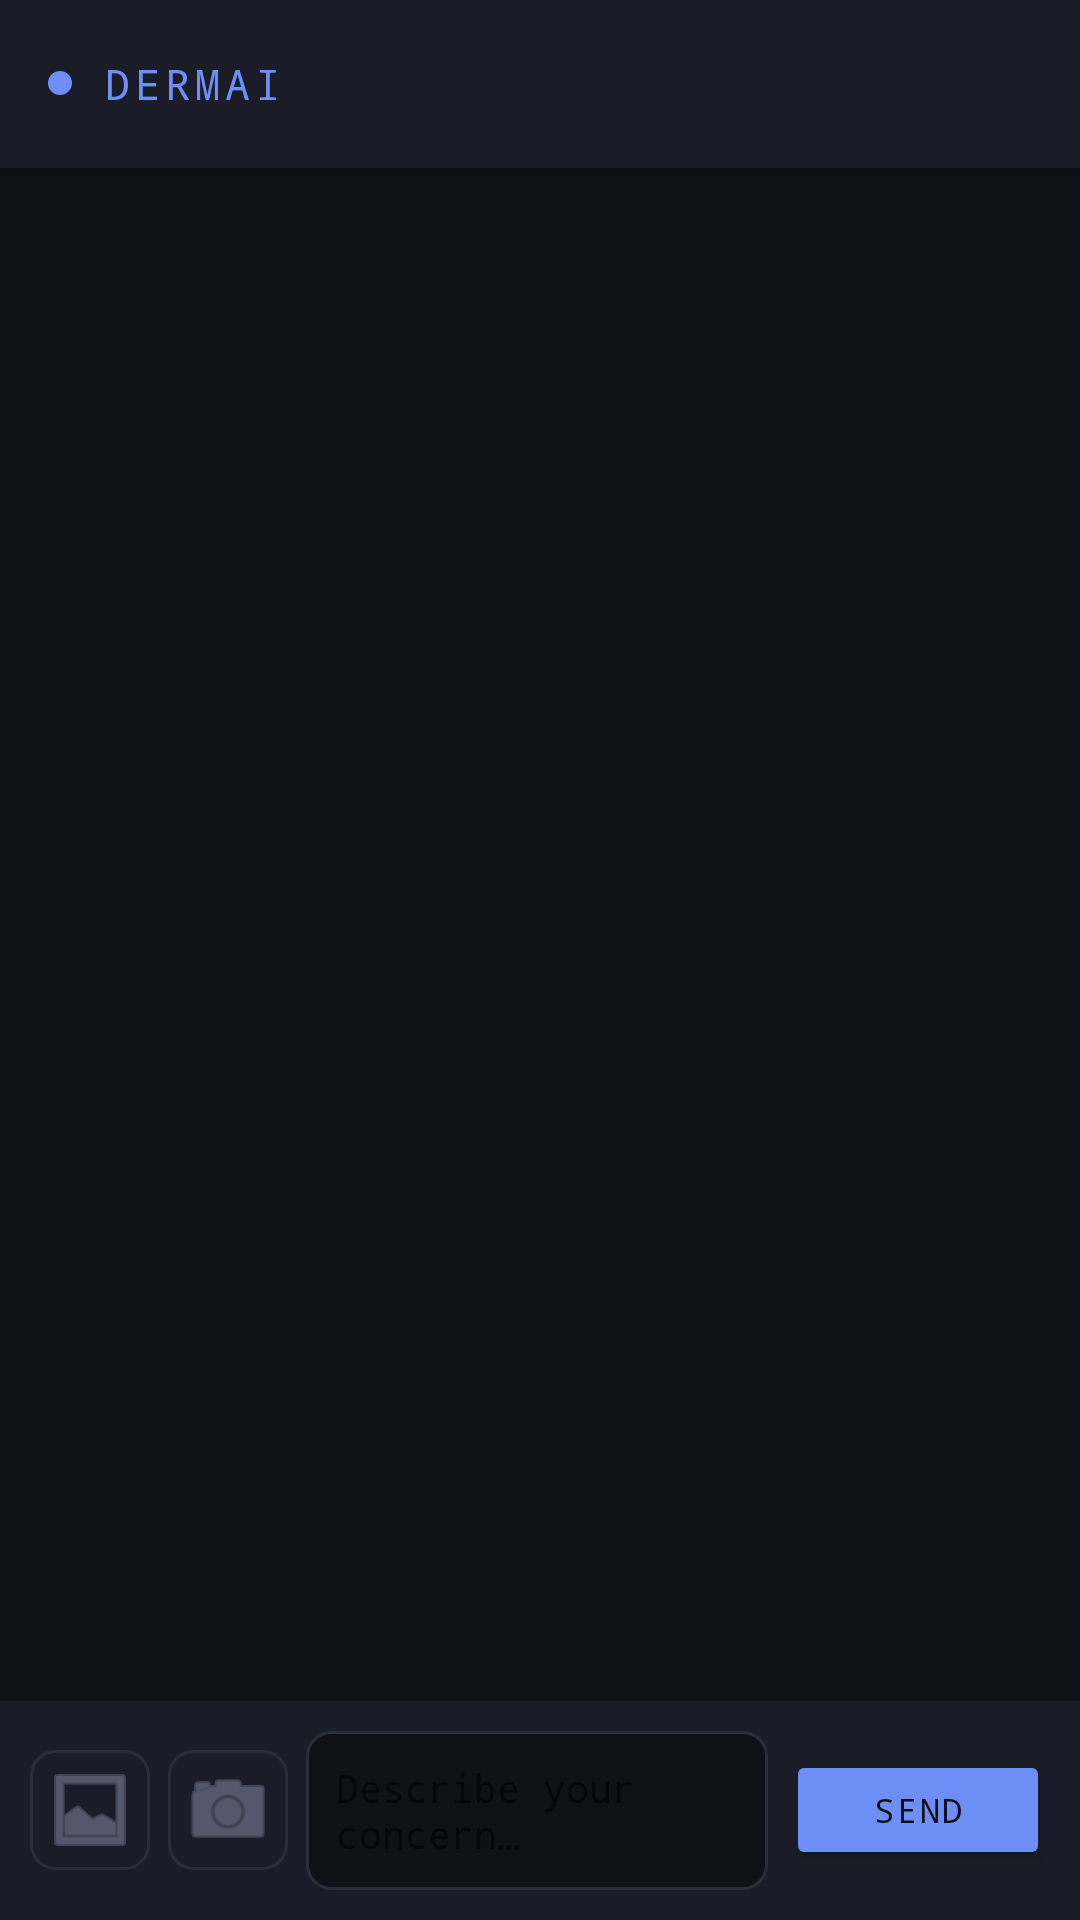

Icon bounding boxes for this 1080px×1920px phone screenshot, format (x1, y1, x2, y2):
camera: (191, 1779, 265, 1838)
gallery: (54, 1774, 126, 1846)
